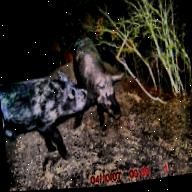boar: (57, 18, 145, 147), (0, 65, 94, 181)
